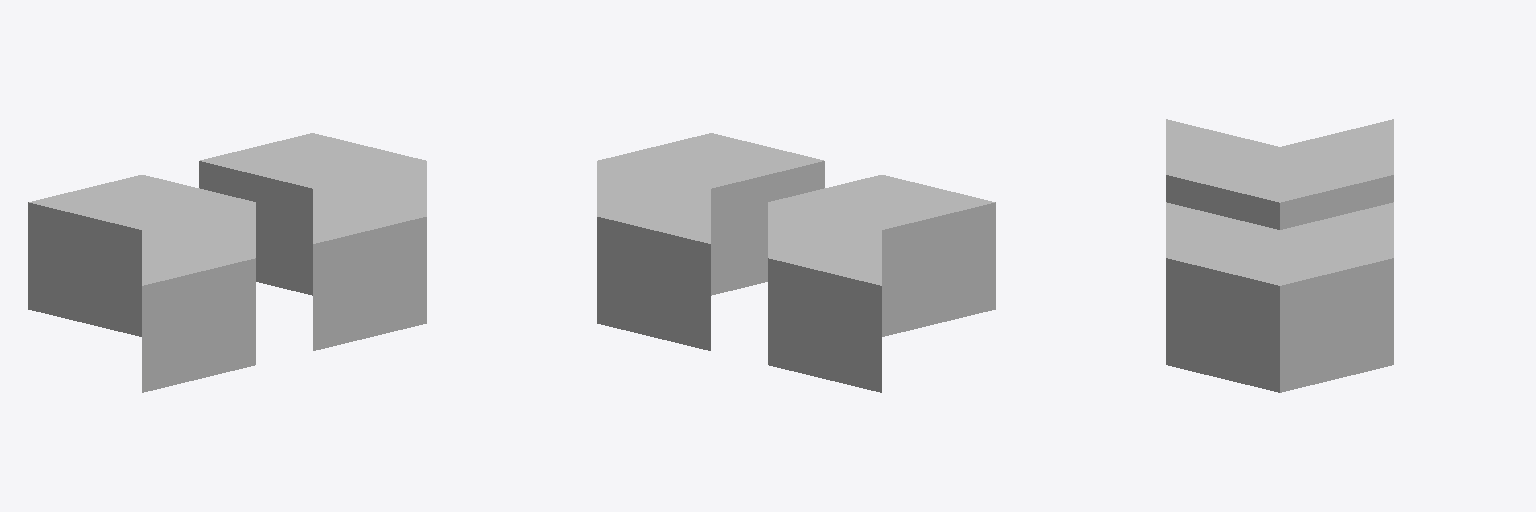
File: arrow2_new.obj
The picture shows the model from 3 angles: view 1: azimuth 30°, elevation 25°; view 2: azimuth 150°, elevation 25°; view 3: azimuth 270°, elevation 25°; orthographic projection.
Visible parts, largest first — view 1: arrow2; view 2: arrow2; view 3: arrow2.
Boxes of the visible parts, <box> form: arrow2: <box>28,133,426,392</box>; arrow2: <box>597,133,995,392</box>; arrow2: <box>1166,119,1393,392</box>.
Size of the model in its own units: 1 by 0.3 by 0.58.